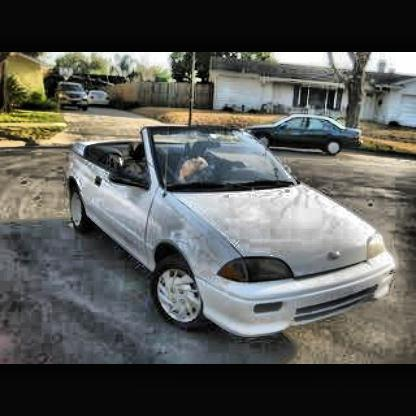Geo Metro Convertible 1993: (71, 124, 397, 338)
